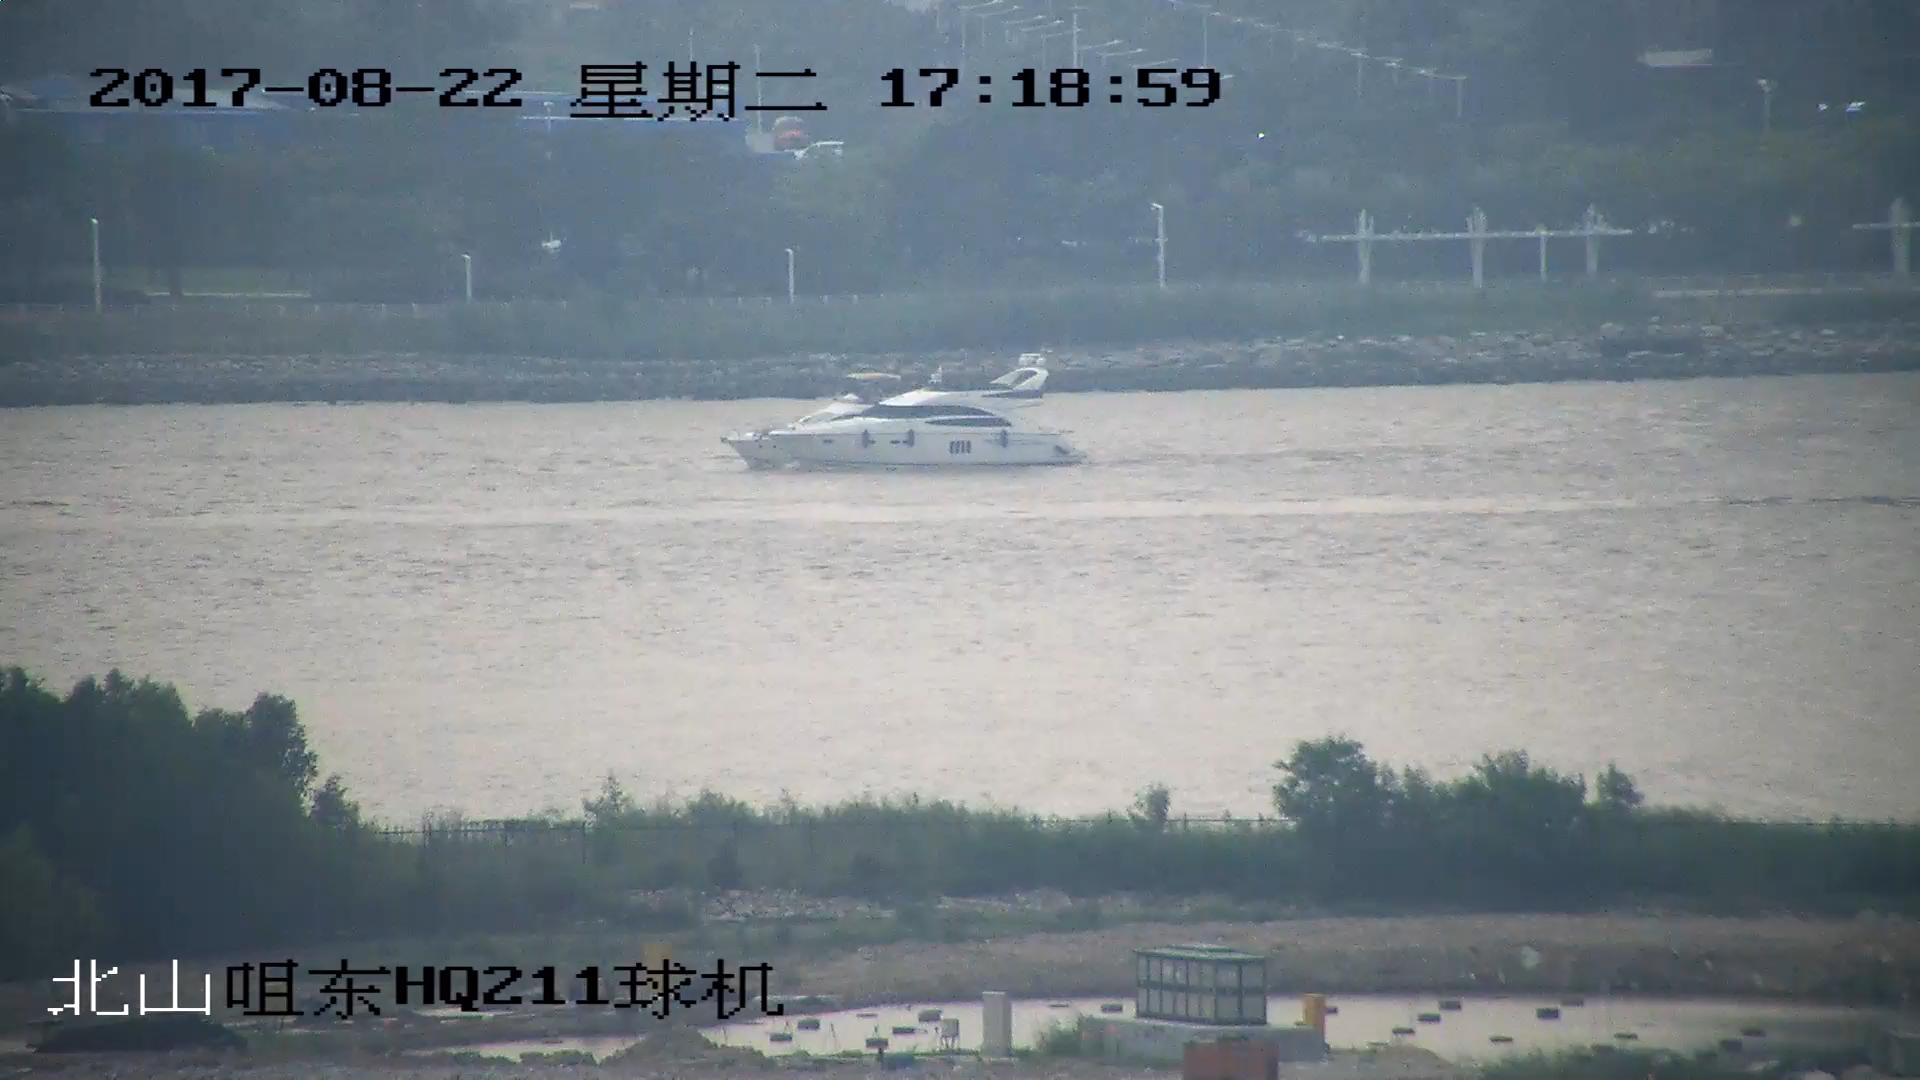passenger ship: (722, 351, 1082, 469)
